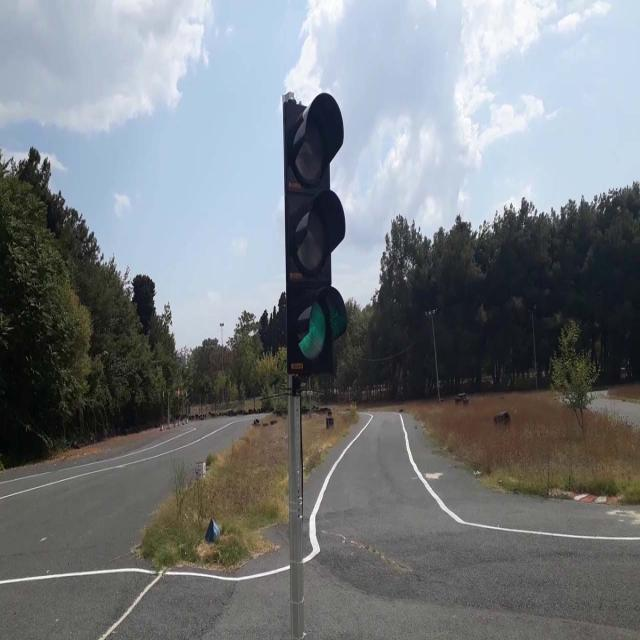yesil: (286, 92, 346, 370)
